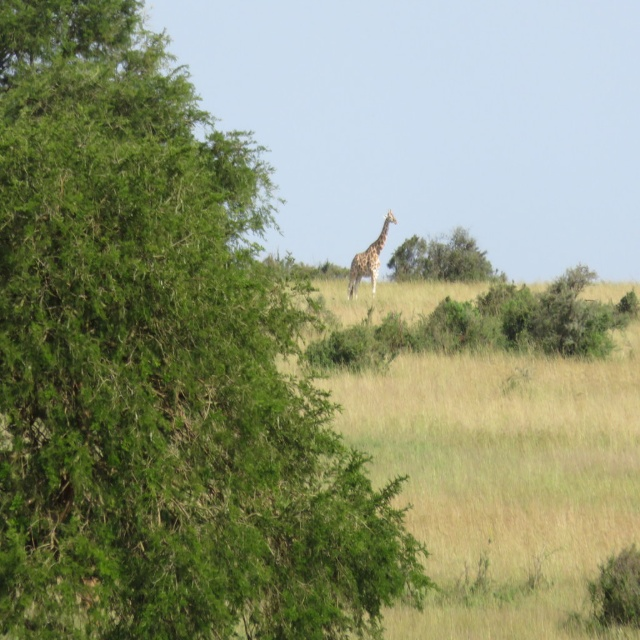Giraffe: (347, 209, 397, 301)
